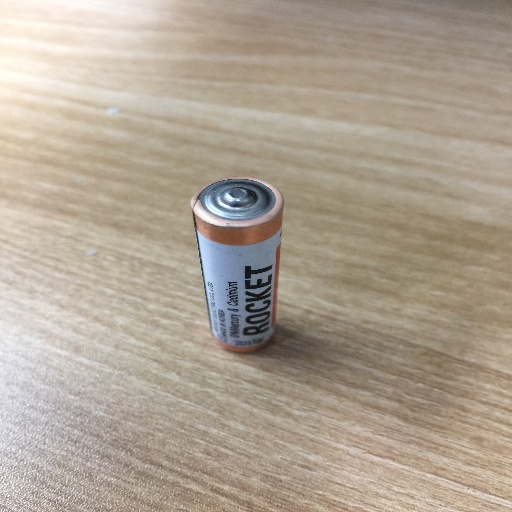Battery_0: (173, 157, 298, 367)
